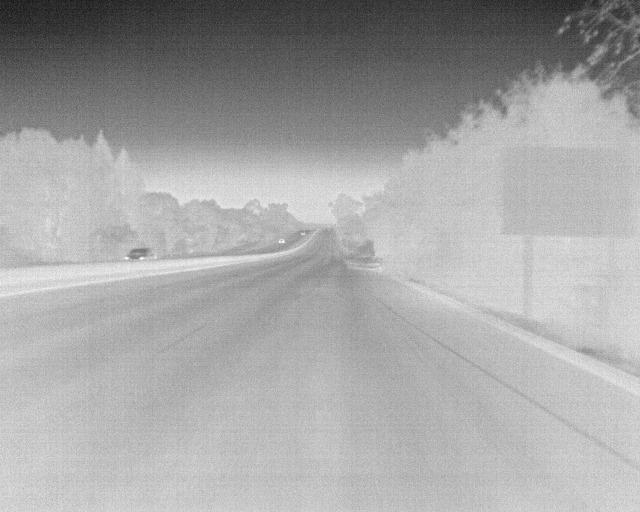car: (124, 246, 156, 262)
